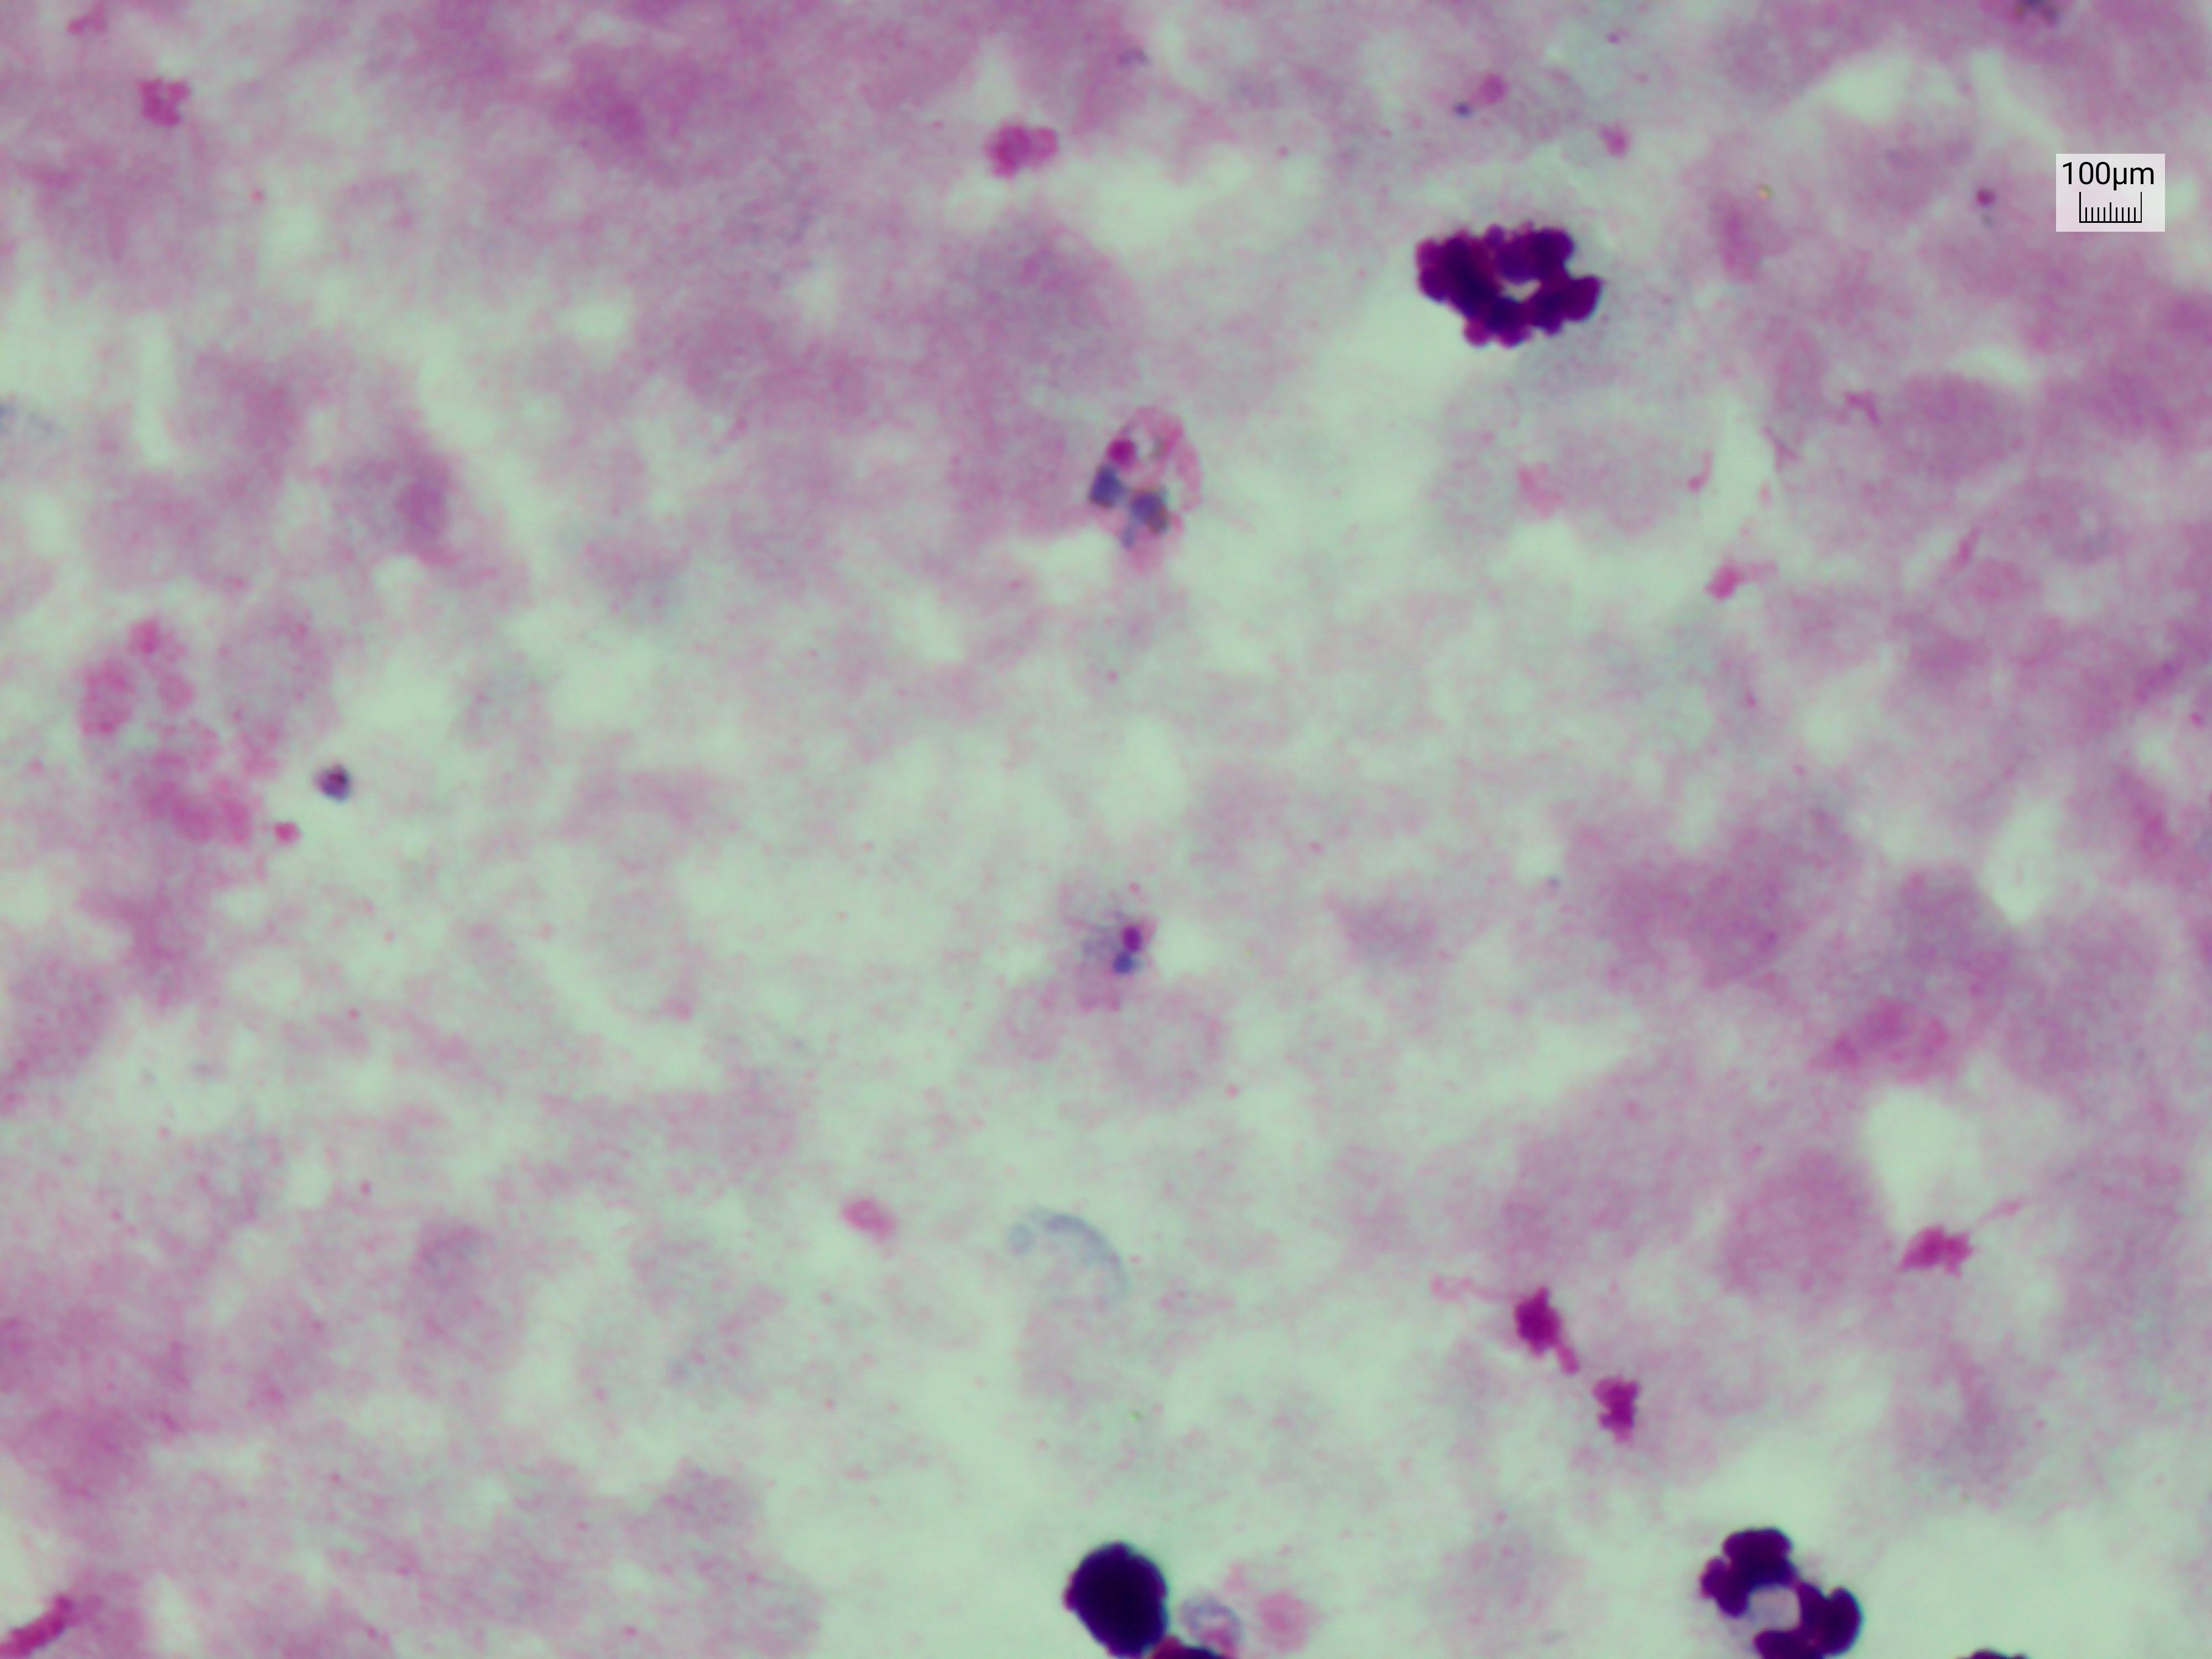p.vivax: (1073, 382, 1235, 573), (1062, 885, 1170, 1021), (1961, 167, 2029, 237)
